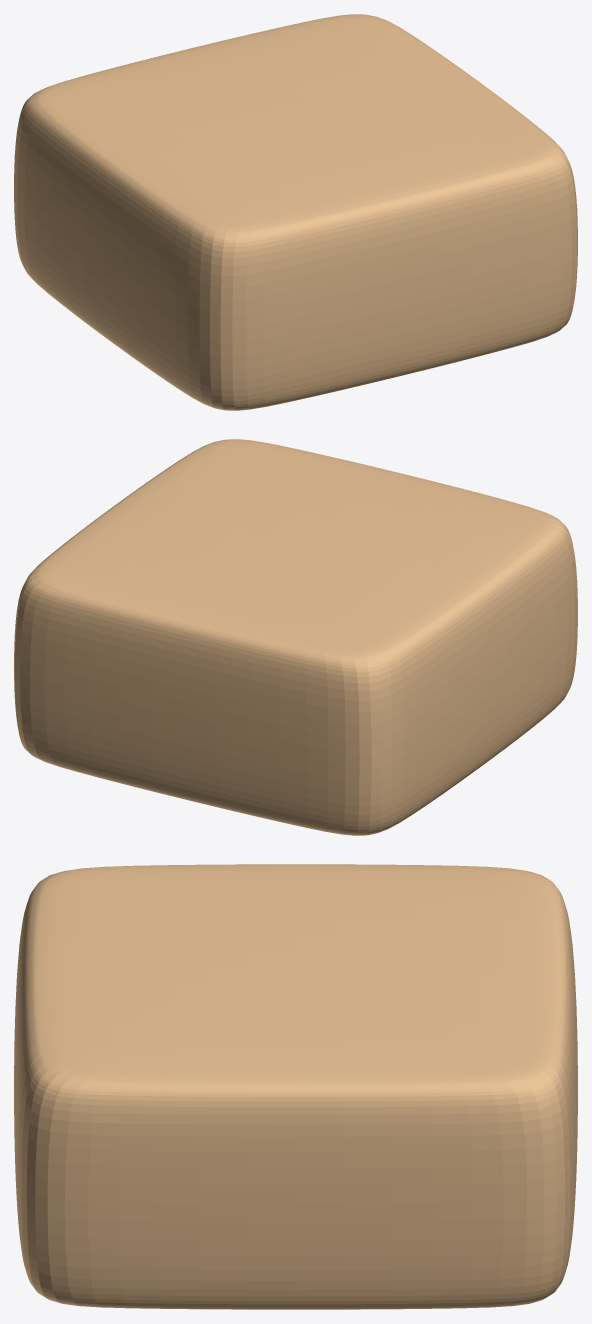
The model's file is CakeBigLayerGlaze.glb.
3 renders of one model, top to bottom at view 1: azimuth 30°, elevation 25°; view 2: azimuth 150°, elevation 25°; view 3: azimuth 270°, elevation 25°, orthographic. The views are drawn at different scales.
Parts seen in each view (by area): view 1: Cube.028; view 2: Cube.028; view 3: Cube.028.
Part boxes in pixels (left/top/right/bottom): Cube.028: left=14, top=14, right=577, bottom=410; Cube.028: left=14, top=439, right=577, bottom=835; Cube.028: left=14, top=864, right=577, bottom=1309.
Size of the model in its own units: 1.99 by 0.9083 by 1.99.
